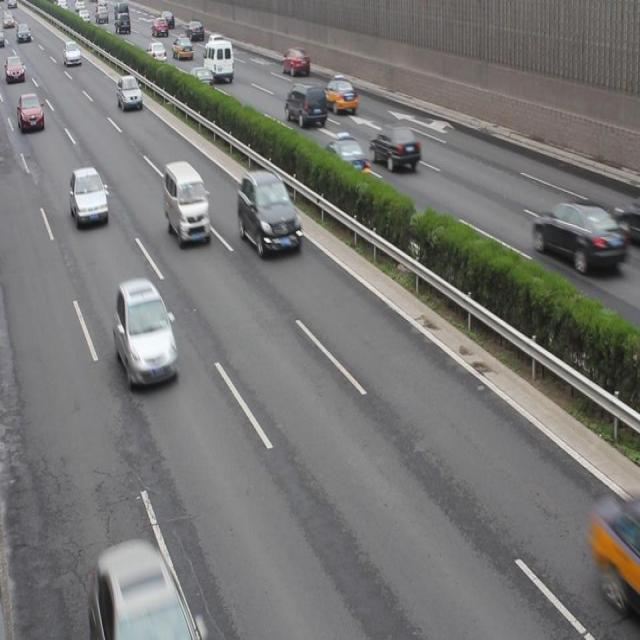car: (90, 539, 200, 640), (588, 486, 640, 614), (114, 280, 176, 387), (531, 200, 624, 268), (238, 168, 302, 259), (370, 124, 420, 169), (70, 167, 108, 226), (324, 130, 367, 176), (612, 194, 640, 246), (322, 76, 358, 111), (18, 94, 46, 132), (280, 46, 309, 77), (118, 77, 142, 110), (1, 53, 25, 82), (172, 32, 193, 62), (188, 65, 214, 88), (63, 41, 82, 67), (147, 43, 167, 65), (186, 20, 203, 42), (205, 32, 223, 52), (152, 17, 168, 38)
truck: (164, 160, 211, 248), (283, 82, 326, 128), (204, 39, 234, 82)
